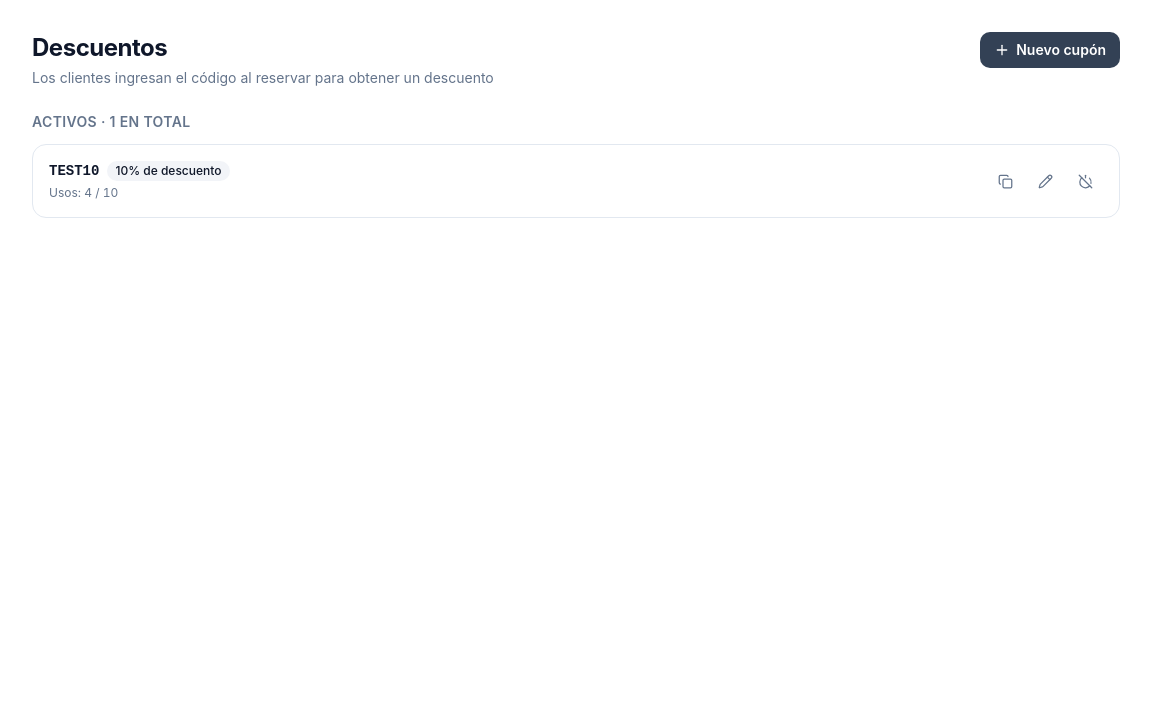
Test case: DescuentosPage — editar cupón (B16) › no deja bajar el límite por debajo de los usos ya hechos
Click the button named "Editar cupón TEST10" at (1045, 181), box [1027,163,1063,199]
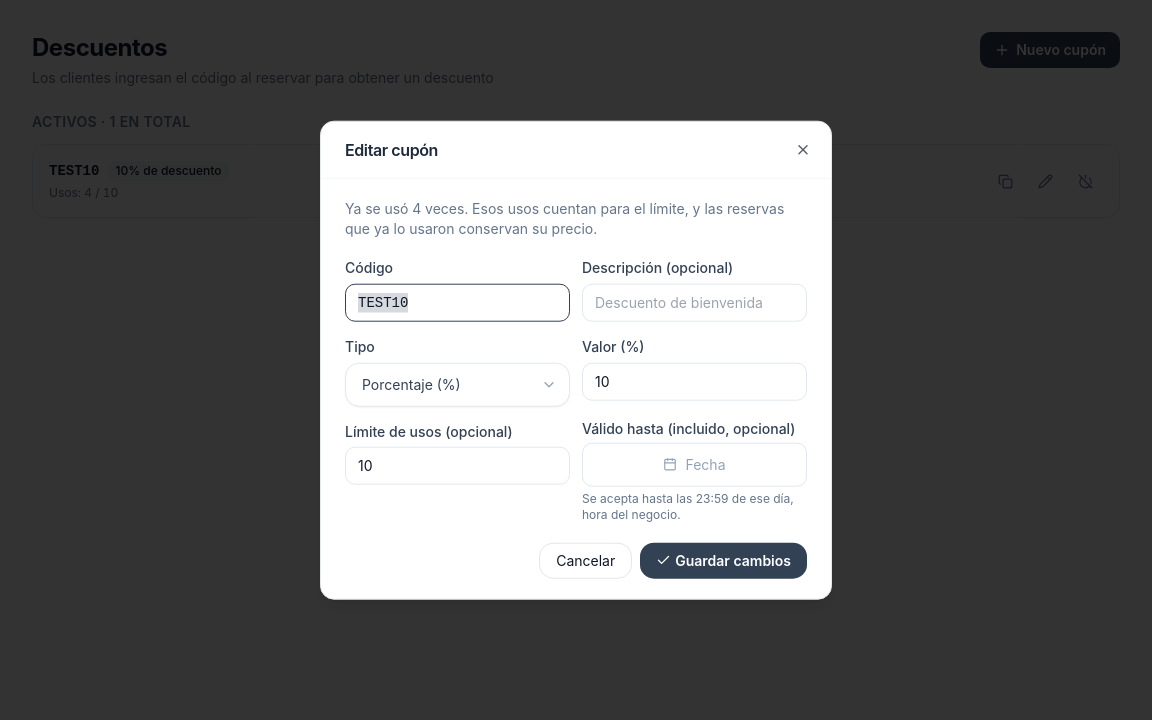
Replace the text in the number field with placeholder "Sin límite" with "3" at (458, 466), box [345,447,570,485]
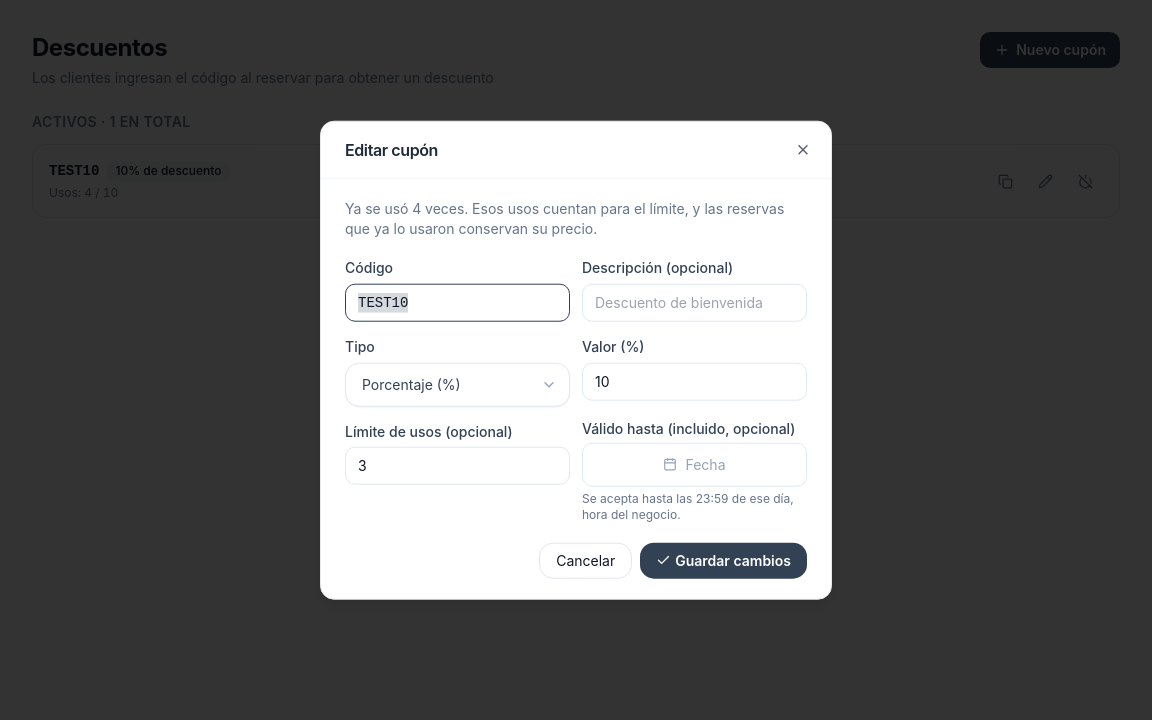
Click the button "Guardar cambios" at (724, 560), box [640,542,807,578]
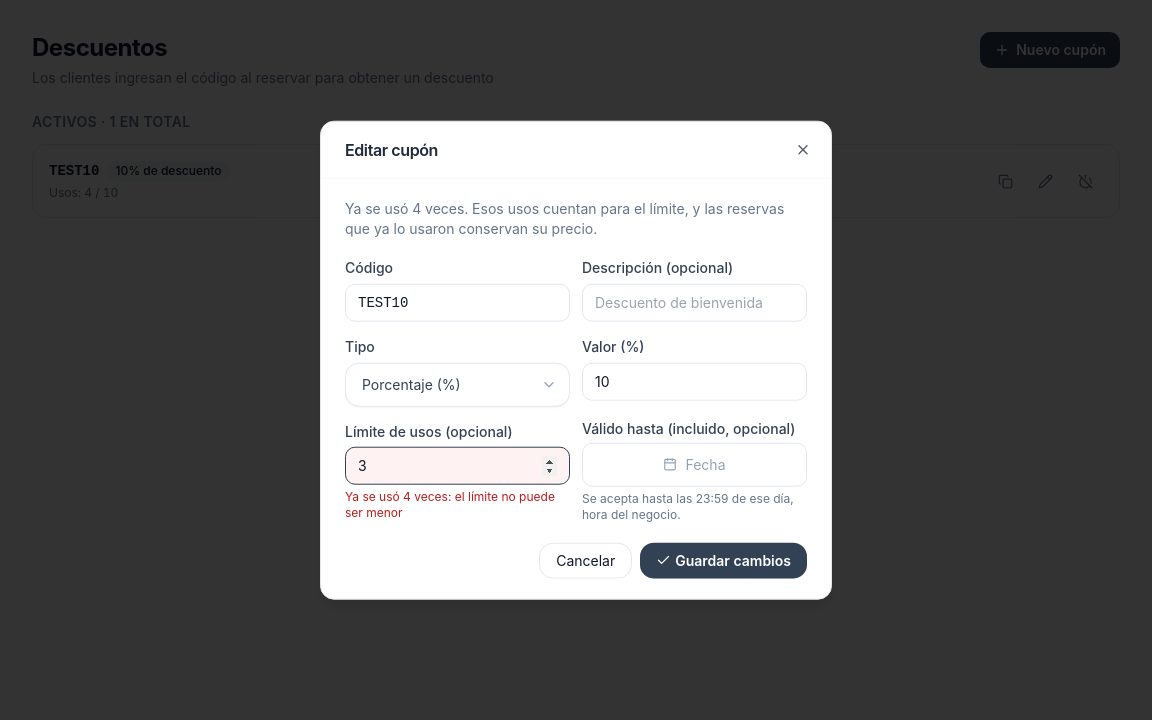
Check: the text "Ya se usó 4 veces: el límite no puede ser menor" is shown, box [345,489,570,521]
